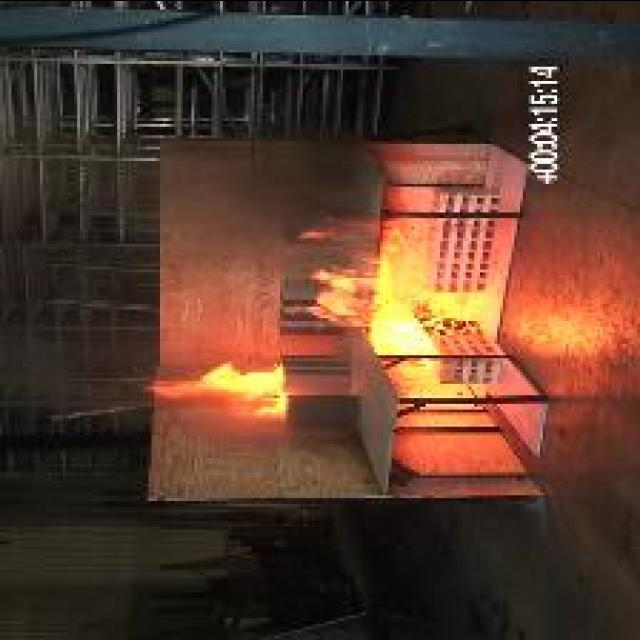Fire: (302, 218, 468, 350), (143, 363, 286, 411)
